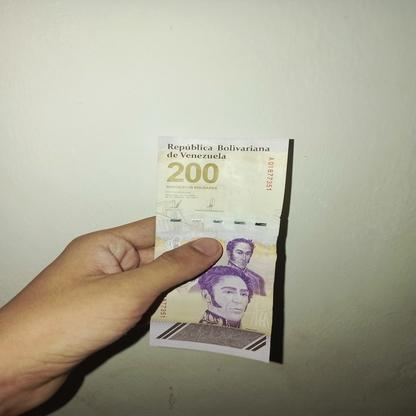two_hundred-front-vef: (148, 135, 290, 363)
